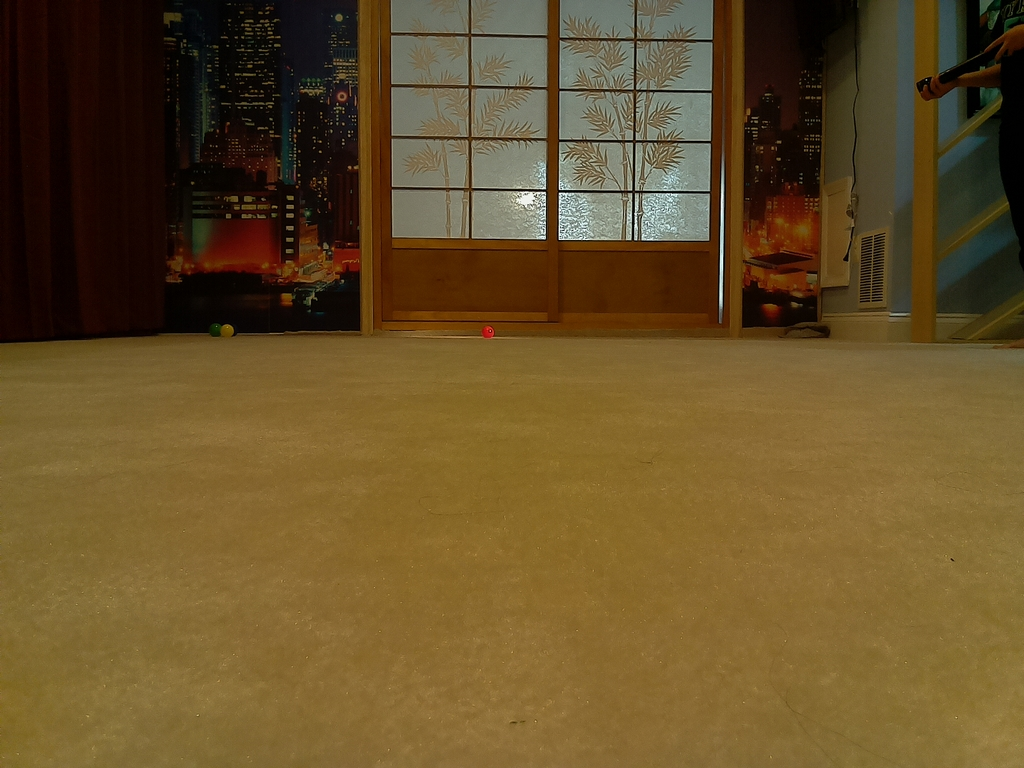ball: (483, 326, 493, 339)
